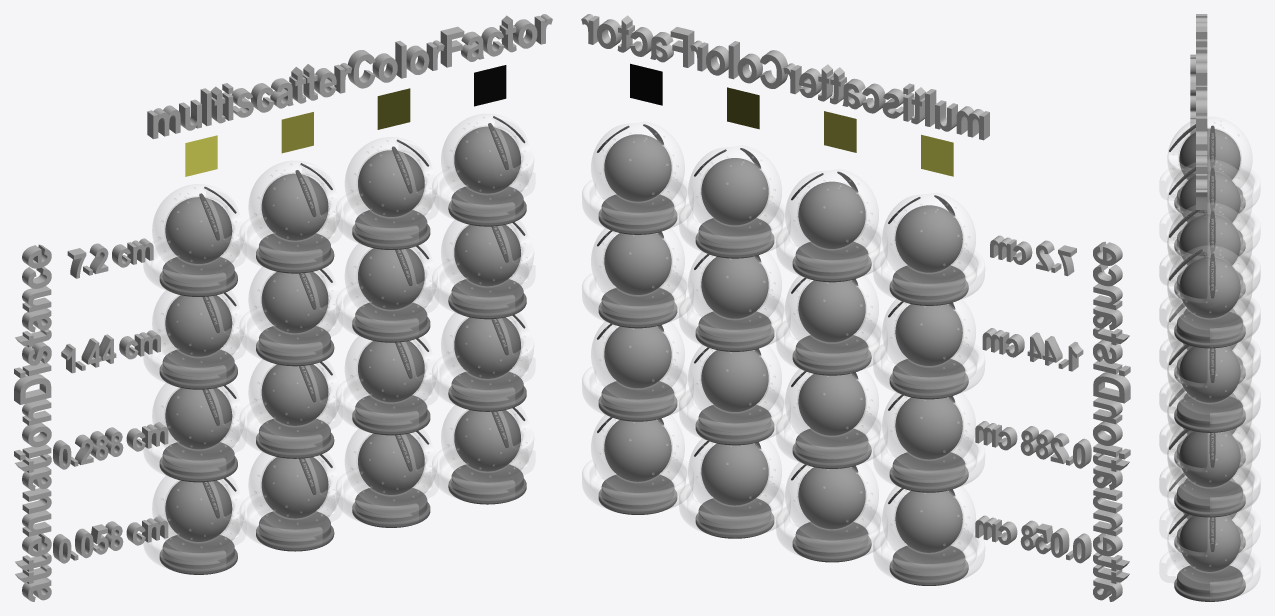
The model's file is ScatterColorAndDensity.glb.
3 renders of one model, left to right at view 1: azimuth 30°, elevation 25°; view 2: azimuth 150°, elevation 25°; view 3: azimuth 270°, elevation 25°, orthographic. The views are drawn at different scales.
Visible parts, largest first — view 1: material_surface (×15), core (×15), base (×15), multiscatterColorFactor, attenuationDistance, material_surface_n3d, core_n3d, 0.2 cm, 1 cm, base_n3d, 5 cm, 25 cm (+4 smaller); view 2: material_surface (×15), core (×15), base (×15), multiscatterColorFactor, attenuationDistance, material_surface_n3d, core_n3d, 1 cm, 0.2 cm, base_n3d, 5 cm, 25 cm (+4 smaller); view 3: material_surface (×15), core (×7), base (×10), sss_bars (×7), multiscatterColorFactor, material_surface_n3d, 25 cm, attenuationDistance.
Part boxes in pixels (x1,y1,x2,y2): material_surface (×15): (143, 114, 535, 549); core (×15): (165, 126, 520, 518); base (×15): (159, 186, 526, 551); multiscatterColorFactor: (147, 14, 552, 139); attenuationDistance: (14, 244, 51, 601); material_surface_n3d: (143, 476, 246, 573); core_n3d: (165, 480, 232, 541); 0.2 cm: (53, 516, 168, 563); 1 cm: (53, 422, 168, 469); base_n3d: (159, 535, 237, 574); 5 cm: (61, 330, 160, 373); 25 cm: (67, 238, 153, 278); material_surface (×15): (582, 122, 984, 560); core (×15): (604, 134, 962, 529); base (×15): (598, 194, 968, 562); multiscatterColorFactor: (581, 14, 989, 140); attenuationDistance: (1093, 241, 1130, 601); material_surface_n3d: (873, 486, 984, 584); core_n3d: (895, 491, 962, 552); 1 cm: (975, 421, 1091, 468); 0.2 cm: (975, 515, 1091, 563); base_n3d: (889, 545, 968, 585); 5 cm: (982, 328, 1083, 371); 25 cm: (990, 235, 1076, 276); material_surface (×15): (1159, 117, 1260, 600); core (×7): (1179, 128, 1240, 571); base (×10): (1174, 186, 1245, 601); sss_bars (×7): (1169, 124, 1215, 551); multiscatterColorFactor: (1196, 14, 1207, 209); material_surface_n3d: (1160, 413, 1260, 458); 25 cm: (1190, 84, 1195, 135); attenuationDistance: (1190, 54, 1195, 83).
Bounding box in the file's own units: 0.4966 × 0.417 × 0.0892.
Materials: 23 (1 with a texture image).
